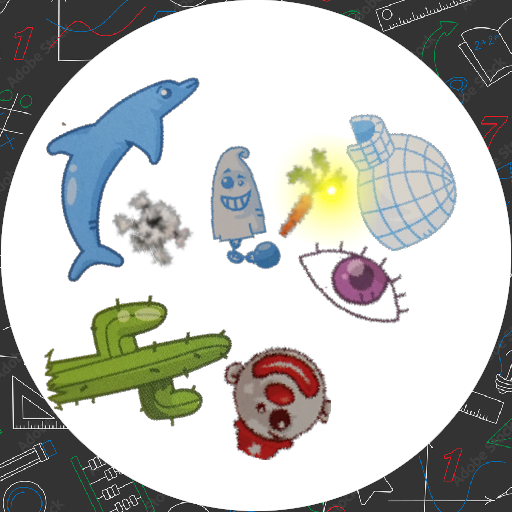cactus_icon: (33, 259, 235, 461)
carrot_icon: (263, 147, 363, 247)
clown_icon: (213, 342, 331, 460)
dolphin_icon: (1, 51, 234, 284)
eye_icon: (293, 222, 415, 344)
ghost_icon: (176, 142, 309, 275)
igloo_icon: (317, 102, 466, 251)
skull_icon: (112, 186, 198, 272)
